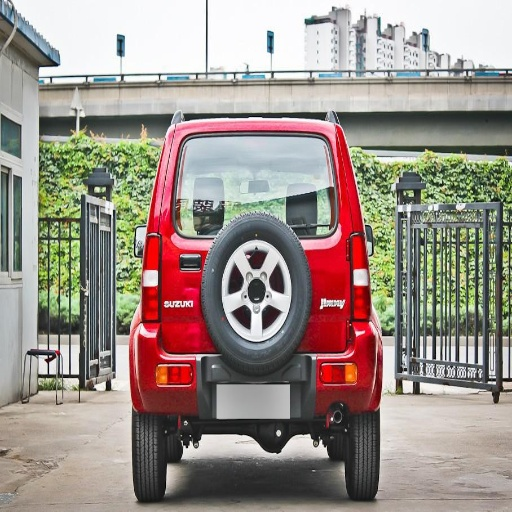trunk: (165, 140, 348, 349)
